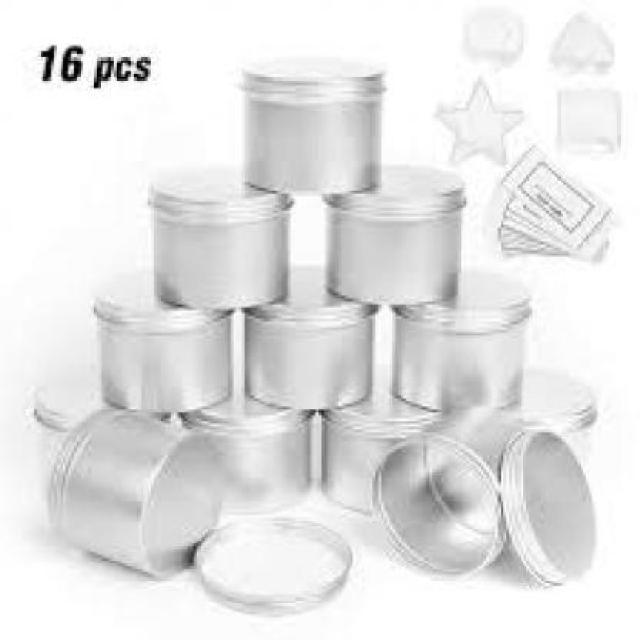METAL: (42, 407, 222, 571), (376, 416, 518, 572), (233, 54, 381, 194), (318, 165, 458, 304), (144, 170, 288, 304), (390, 264, 521, 410), (88, 278, 230, 409), (242, 268, 376, 403), (182, 395, 313, 503), (193, 517, 350, 606), (500, 432, 589, 583), (316, 390, 422, 512), (484, 378, 588, 467), (32, 376, 92, 481)
